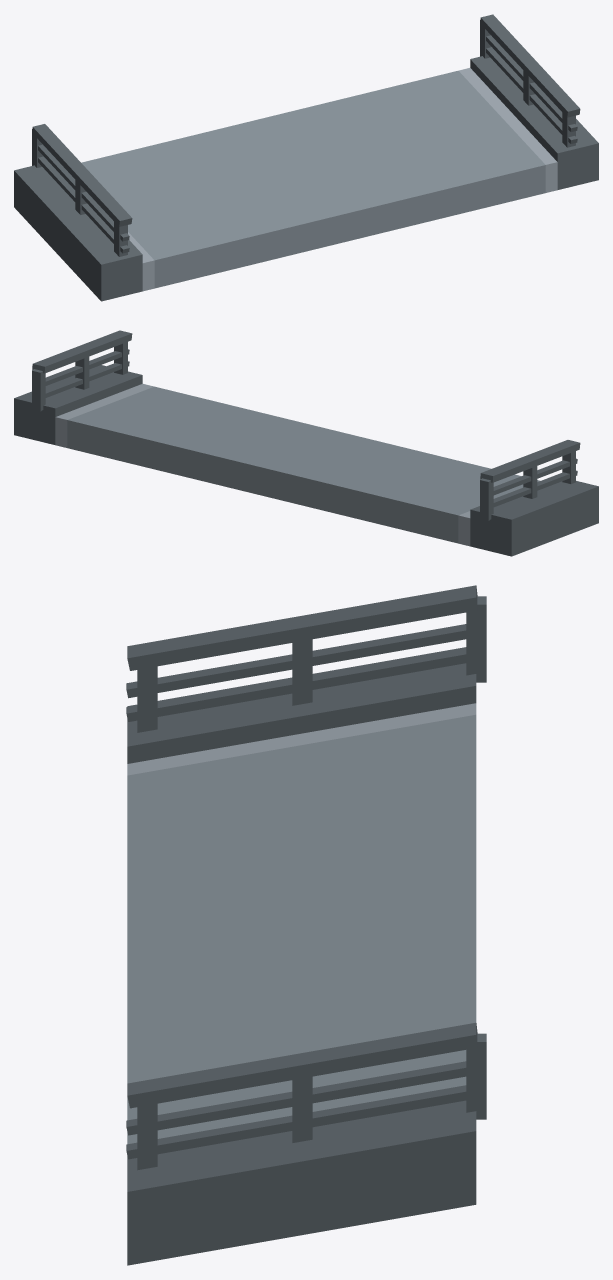
File: SM_Prop_Bridge_Up_01.fbx
3 renders of one model, top to bottom at view 1: azimuth 30°, elevation 25°; view 2: azimuth 150°, elevation 25°; view 3: azimuth 270°, elevation 25°, orthographic. The views are drawn at different scales.
Parts seen in each view (by area): view 1: SM_Prop_Bridge_Up_01; view 2: SM_Prop_Bridge_Up_01; view 3: SM_Prop_Bridge_Up_01.
Part boxes in pixels (x1,y1,x2,y2): SM_Prop_Bridge_Up_01: (14,14,598,301); SM_Prop_Bridge_Up_01: (14,330,598,556); SM_Prop_Bridge_Up_01: (126,585,486,1265).
Size of what is drawn, in the model's own units: 1200 by 376 by 245.
